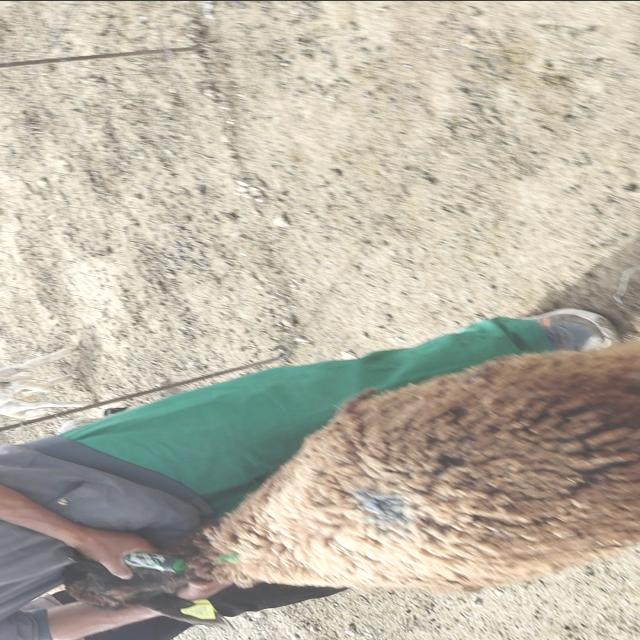Score_1: (65, 341, 639, 624)
